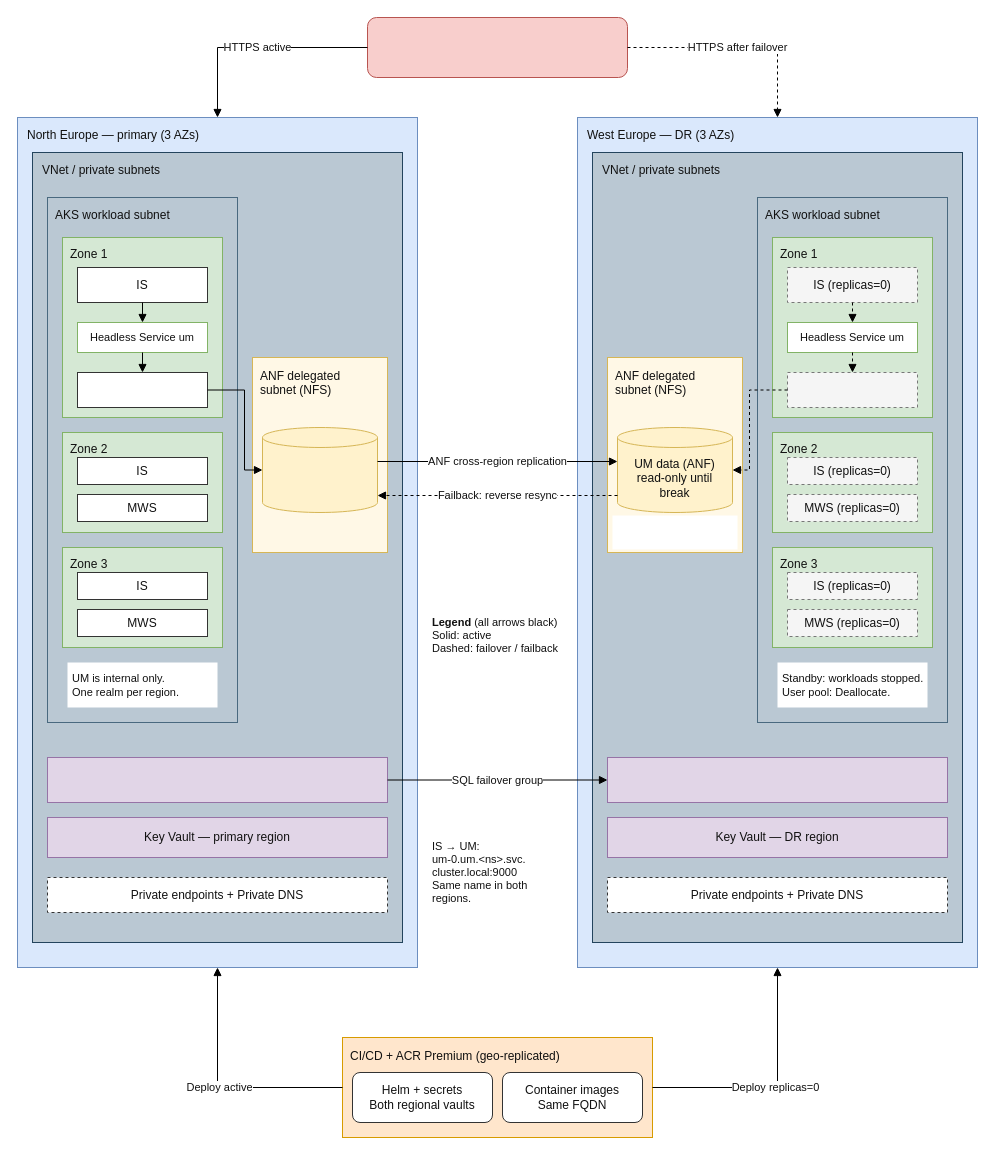
The diagram is 995 pixels wide and 1155 high, and some of its shapes have lost their labels. The centre of each missing label's shape, as x and y in pixels:
"Azure Front Door Premium + WAF HTTPS: IS and MWS only" goes at [497,47].
"Azure SQL Database Geo-secondary" goes at [777,779].
"Azure SQL Database Primary (IS and MWS)" goes at [217,779].
"Static PV/PVC um-data-um-0" goes at [674,532].
"UM realm data ANF" goes at [320,469].
"UM StatefulSet replicas=0" goes at [852,390].
"UM StatefulSet um-0" goes at [142,390].
